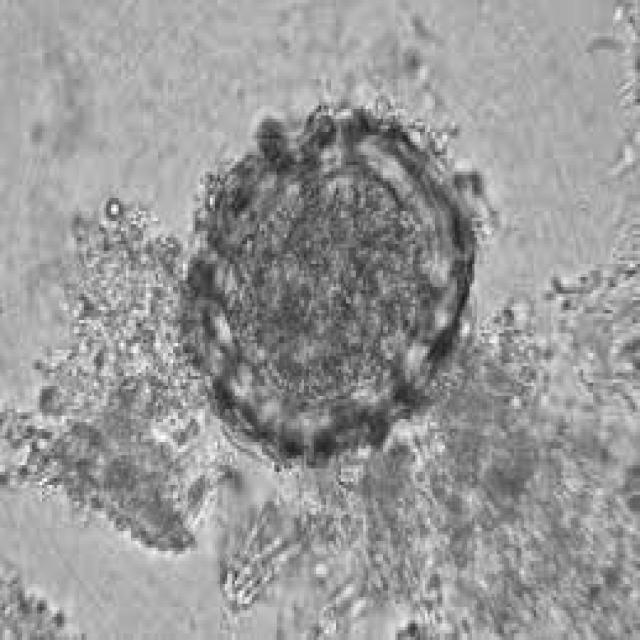Ascaris Lumbricoides: (172, 108, 486, 484)
